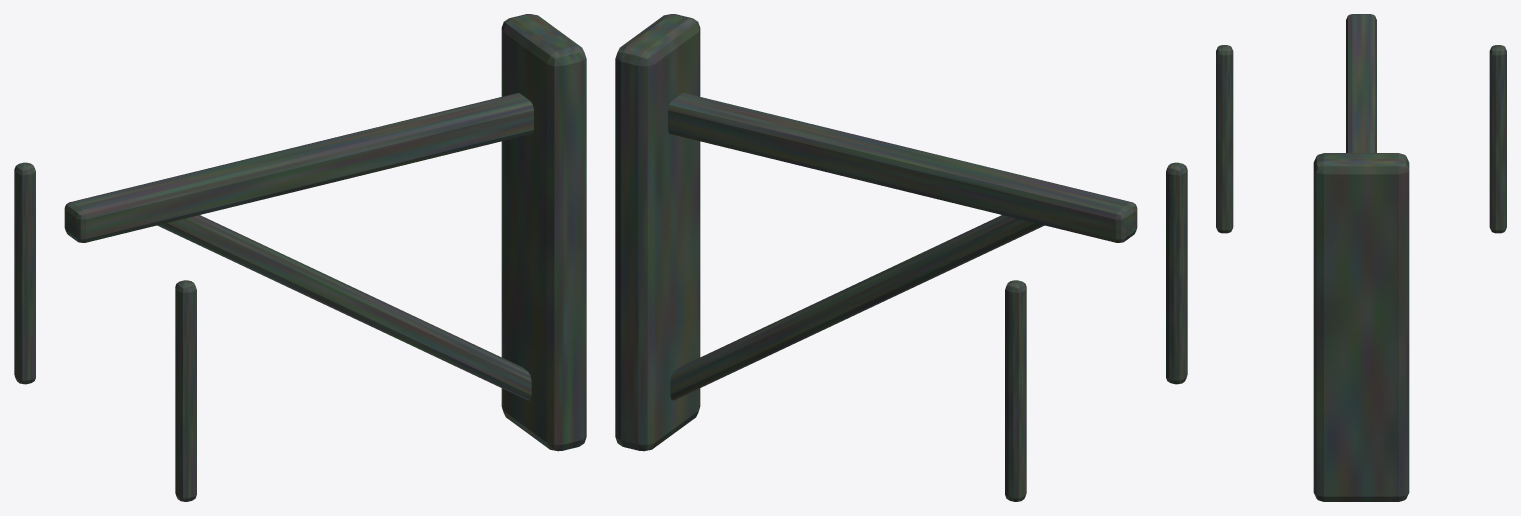
File: SM_HH_V3_SignBracket.fbx
3 renders of one model, left to right at view 1: azimuth 30°, elevation 25°; view 2: azimuth 150°, elevation 25°; view 3: azimuth 270°, elevation 25°, orthographic. The views are drawn at different scales.
Parts seen in each view (by area): view 1: HH_V3_SignBracket; view 2: HH_V3_SignBracket; view 3: HH_V3_SignBracket.
Part boxes in pixels (x1,y1,x2,y2): HH_V3_SignBracket: (14,14,586,501); HH_V3_SignBracket: (615,14,1187,501); HH_V3_SignBracket: (1216,14,1506,501).
Size of the model in its own units: 0.425 by 0.7075 by 0.55.
